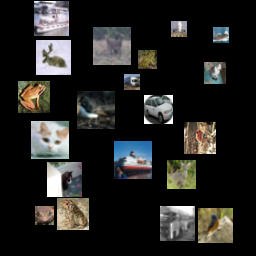airplane: (171, 21, 187, 37)
automobile: (144, 95, 173, 124)
bird: (77, 91, 115, 129), (198, 208, 233, 243), (184, 122, 216, 154)
cat: (31, 121, 69, 159), (47, 162, 82, 197), (204, 62, 226, 84)
deer: (93, 27, 131, 65), (36, 40, 71, 75), (167, 160, 196, 189)
frog: (57, 198, 89, 230), (18, 81, 50, 113), (35, 206, 54, 225), (138, 50, 157, 69)
ship: (114, 141, 152, 179), (34, 1, 69, 36), (213, 27, 229, 43)
